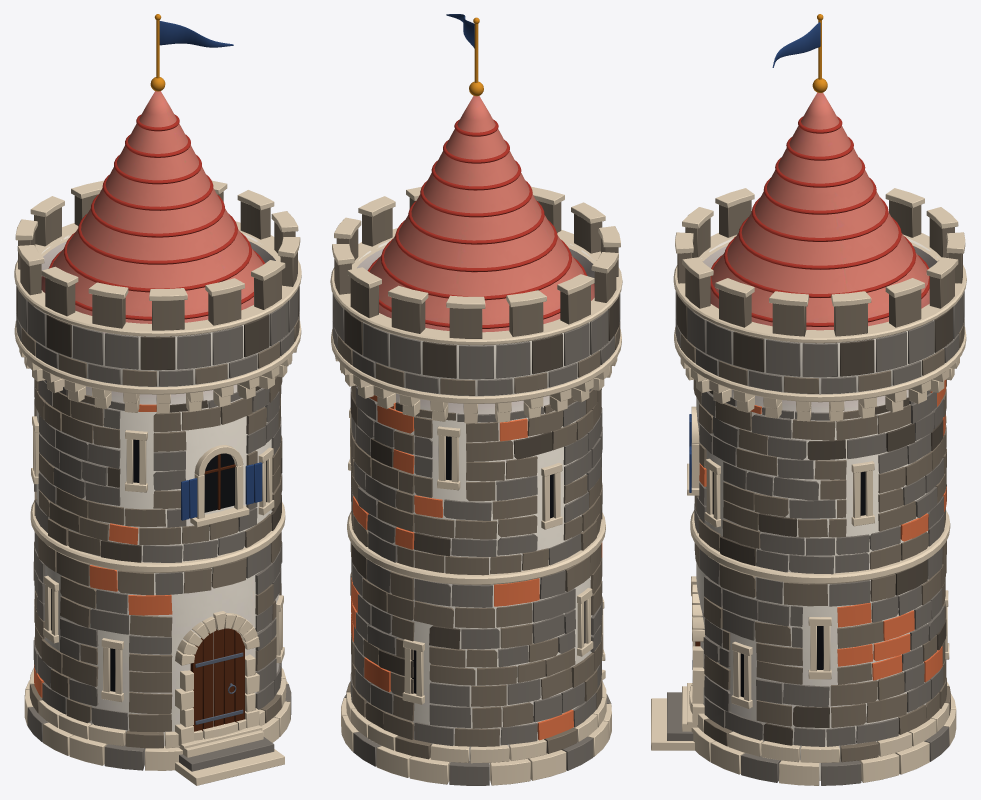
File: castle-tower.obj
3 renders of one model, left to right at view 1: azimuth 30°, elevation 25°; view 2: azimuth 150°, elevation 25°; view 3: azimuth 270°, elevation 25°, orthographic.
Parts seen in each view (by area): view 1: castle-tower_details, castle-tower_stonework, castle-tower_body; view 2: castle-tower_stonework, castle-tower_details, castle-tower_body; view 3: castle-tower_stonework, castle-tower_details, castle-tower_body.
Part boxes in pixels (<box>): castle-tower_details: <box>14,14,301,785</box>; castle-tower_stonework: <box>33,376,282,731</box>; castle-tower_body: <box>22,91,293,765</box>; castle-tower_stonework: <box>350,385,602,746</box>; castle-tower_details: <box>330,14,622,785</box>; castle-tower_body: <box>344,96,608,780</box>; castle-tower_stonework: <box>693,379,946,746</box>; castle-tower_details: <box>651,14,966,785</box>; castle-tower_body: <box>687,92,953,780</box>.
Bounding box in the file's own units: 6.16 × 16.55 × 6.63.
13 materials, 1 textured.
